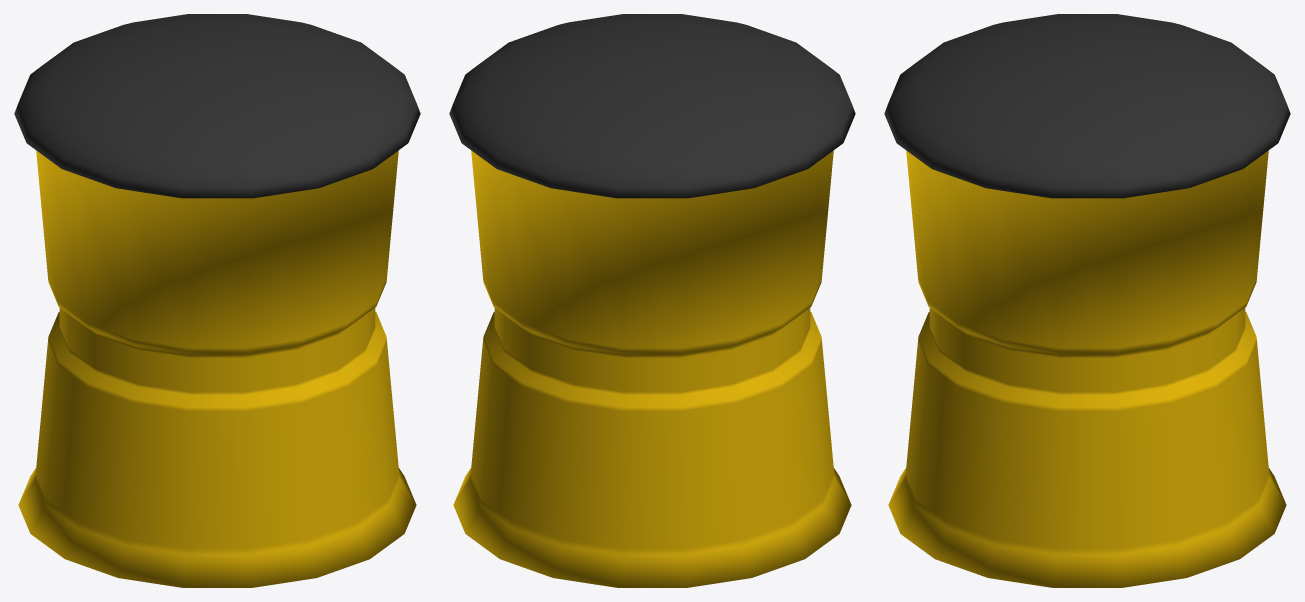
Rendered from prop_barrel_1.fbx.
The picture shows the model from 3 angles, left to right: view 1: azimuth 30°, elevation 25°; view 2: azimuth 150°, elevation 25°; view 3: azimuth 270°, elevation 25°; orthographic projection.
Parts seen in each view (by area): view 1: Cylinder; view 2: Cylinder; view 3: Cylinder.
Part boxes in pixels (x1,y1,x2,y2): Cylinder: (14, 14, 420, 587); Cylinder: (449, 14, 855, 587); Cylinder: (884, 14, 1290, 587).
Bounding box in the file's own units: 217 × 265 × 220.
